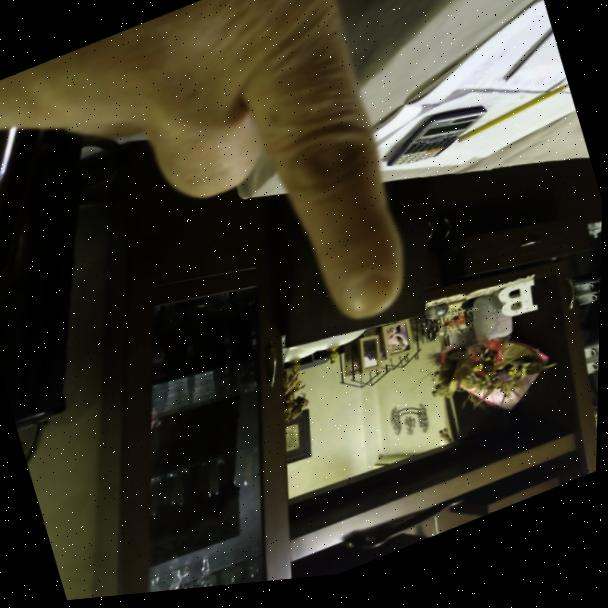one: (0, 0, 458, 461)
